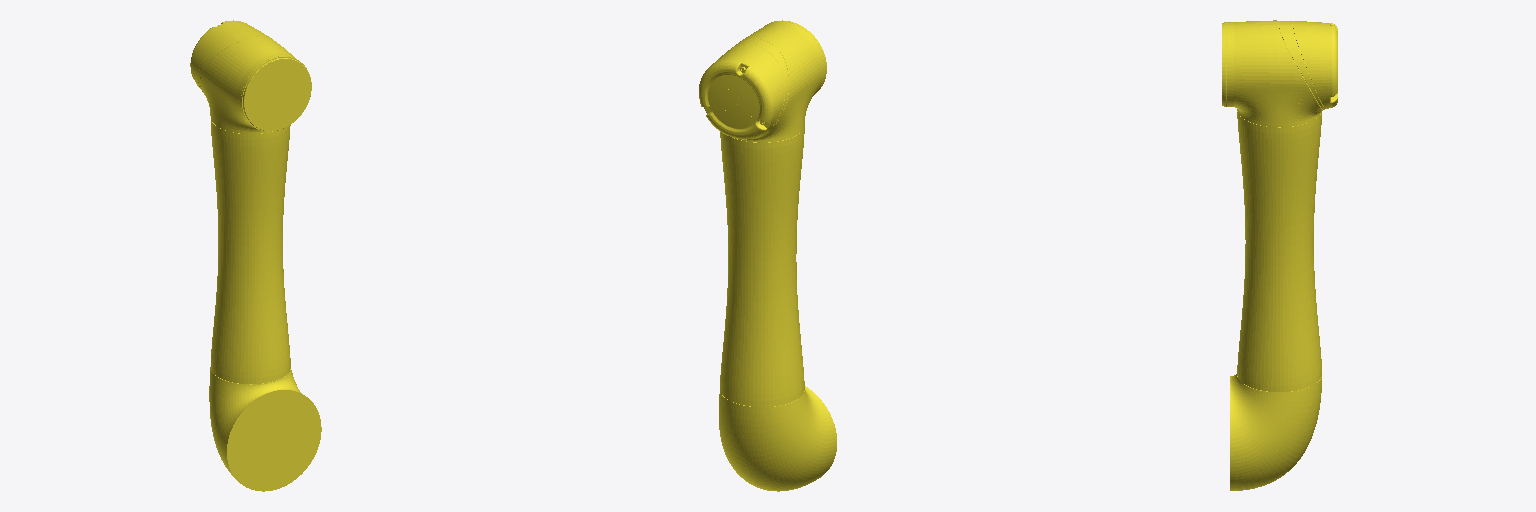
URDF robot description (tm5-900):
<?xml version="1.0" ?>
<robot name="tm5-900">

  <link name="link_0">
    <visual>
      <geometry>
        <mesh filename="package://tm_description/meshes/tm5-900/visual/tm5_base.obj"/>
      </geometry>
    </visual>
    <collision>
      <geometry>
        <mesh filename="package://tm_description/meshes/tm5-900/collision/tm5_base_c.stl"/>
      </geometry>
    </collision>
  </link>

  <joint name="joint_1" type="revolute">
    <parent link="link_0"/>
    <child link="link_1"/>
    <origin xyz="0 0 0.1452" rpy="0 0 0"/>
    <axis xyz="0 0 1"/>
    <limit effort="100.0" lower="-3.14" upper="3.14" velocity="1.0"/>
  </joint>

  <link name="link_1">
    <visual>
      <geometry>
        <mesh filename="package://tm_description/meshes/tm5-900/visual/tmr_400w_01.obj"/>
      </geometry>
    </visual>
    <collision>
      <geometry>
        <mesh filename="package://tm_description/meshes/tm5-900/collision/tmr_400w_01_c.stl"/>
      </geometry>
    </collision>
  </link>

  <joint name="joint_2" type="revolute">
    <parent link="link_1"/>
    <child link="link_2"/>
    <origin xyz="0 0 0" rpy="-1.570796327 -1.570796327 0"/>
    <axis xyz="0 0 1"/>
    <limit effort="100.0" lower="-3.14" upper="3.14" velocity="1.0"/>
  </joint>

  <link name="link_2">
    <visual>
      <geometry>
        <mesh filename="package://tm_description/meshes/tm5-900/visual/tm5-900_arm1.obj"/>
      </geometry>
    </visual>
    <collision>
      <geometry>
        <mesh filename="package://tm_description/meshes/tm5-900/collision/tm5-900_arm1_c.stl"/>
      </geometry>
    </collision>
  </link>

  <joint name="joint_3" type="revolute">
    <parent link="link_2"/>
    <child link="link_3"/>
    <origin  xyz="0.429 0 0" rpy="0 0 0"/>
    <axis xyz="0 0 1"/>
    <limit effort="100.0" lower="-3.14" upper="3.14" velocity="1.0"/>
  </joint>

  <link name="link_3">
    <visual>
      <geometry>
        <mesh filename="package://tm_description/meshes/tm5-900/visual/tm5-900_arm2.obj"/>
      </geometry>
    </visual>
    <collision>
      <geometry>
        <mesh filename="package://tm_description/meshes/tm5-900/collision/tm5-900_arm2_c.stl"/>
      </geometry>
    </collision>
  </link>

  <joint name="joint_4" type="revolute">
    <parent link="link_3"/>
    <child link="link_4"/>
    <origin xyz="0.4115 0 -0.1223" rpy="0 0 1.570796327"/>
    <axis xyz="0 0 1"/>
    <limit effort="10.0" lower="-3.14" upper="3.14" velocity="1.0"/>
  </joint>

  <link name="link_4">
    <visual>
      <geometry>
        <mesh filename="package://tm_description/meshes/tm5-900/visual/tmr_100w_01.obj"/>
      </geometry>
    </visual>
    <collision>
      <geometry>
        <mesh filename="package://tm_description/meshes/tm5-900/collision/tmr_100w_01_c.stl"/>
      </geometry>
    </collision>
  </link>

  <joint name="joint_5" type="revolute">
    <parent link="link_4"/>
    <child link="link_5"/>
    <origin xyz="0 -0.106 0" rpy="1.570796327 0 0"/>
    <axis xyz="0 0 1"/>
    <limit effort="10.0" lower="-3.14" upper="3.14" velocity="1.0"/>
  </joint>

  <link name="link_5">
    <visual>
      <geometry>
        <mesh filename="package://tm_description/meshes/tm5-900/visual/tmr_100w_02.obj"/>
      </geometry>
    </visual>
    <collision>
      <geometry>
        <mesh filename="package://tm_description/meshes/tm5-900/collision/tmr_100w_02_c.stl"/>
      </geometry>
    </collision>
  </link>

  <joint name="joint_6" type="revolute">
    <parent link="link_5"/>
    <child link="link_6"/>
    <origin xyz="0 -0.11315 0" rpy="1.570796327 0 0"/>
    <axis xyz="0 0 1"/>
    <limit effort="10.0" lower="-3.14" upper="3.14" velocity="1.0"/>
  </joint>

  <link name="link_6">
    <visual>
      <geometry>
        <mesh filename="package://tm_description/meshes/tm5-900/visual/tmr_ee.obj"/>
      </geometry>
    </visual>
    <collision>
      <geometry>
        <mesh filename="package://tm_description/meshes/tm5-900/collision/tmr_ee_c.stl"/>
      </geometry>
    </collision>
  </link>

  <link name="base" />
  <joint name="base_fixed_joint" type="fixed">
    <parent link="base"/>
    <child link="link_0"/>
    <origin xyz="0 0 0" rpy="0 0 0"/>
  </joint>

  <link name="flange"/>
  <joint name="flange_fixed_joint" type="fixed">
    <parent link="link_6"/>
    <child link="flange"/>
    <origin xyz="0 0 0" rpy="0 0 0"/>
  </joint>

</robot>

--- Render facts (derived) ---
The picture shows the robot from 3 angles, left to right: view 1: azimuth 30°, elevation 25°; view 2: azimuth 150°, elevation 25°; view 3: azimuth 270°, elevation 25°; orthographic projection.
Model tm5-900 with 9 links and 8 joints (6 revolute, 2 fixed), rooted at base, posed all joints at 0.
Links seen in each view (by area): view 1: link_3; view 2: link_3; view 3: link_3.
Boxes of the visible links, bbox=[...] form: link_3: bbox=[190, 20, 321, 491]; link_3: bbox=[699, 20, 836, 491]; link_3: bbox=[1222, 20, 1337, 490].
Size in the robot's own frame: 0.117 by 0.1176 by 0.5148 metres.
Meshes: 7 distinct files referenced, 1 mesh visuals loaded (1 OBJ); not drawn: 6 (reference not matched to a file when rendering).